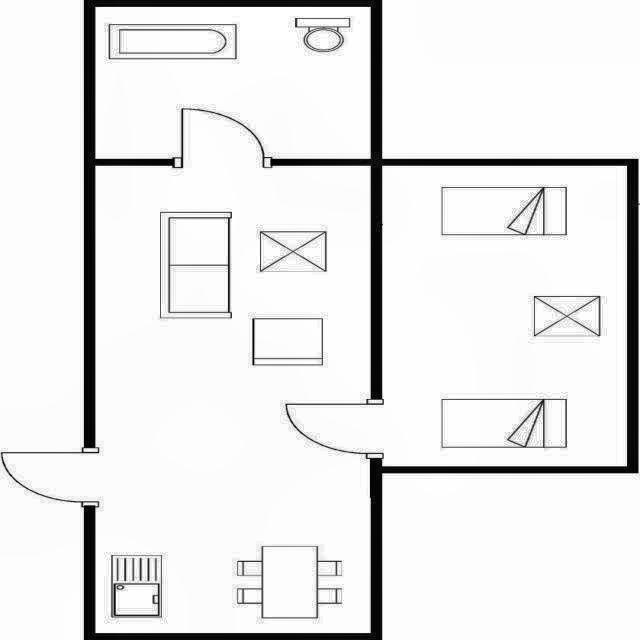room: (95, 166, 371, 633), (382, 165, 627, 466), (96, 7, 371, 159)
